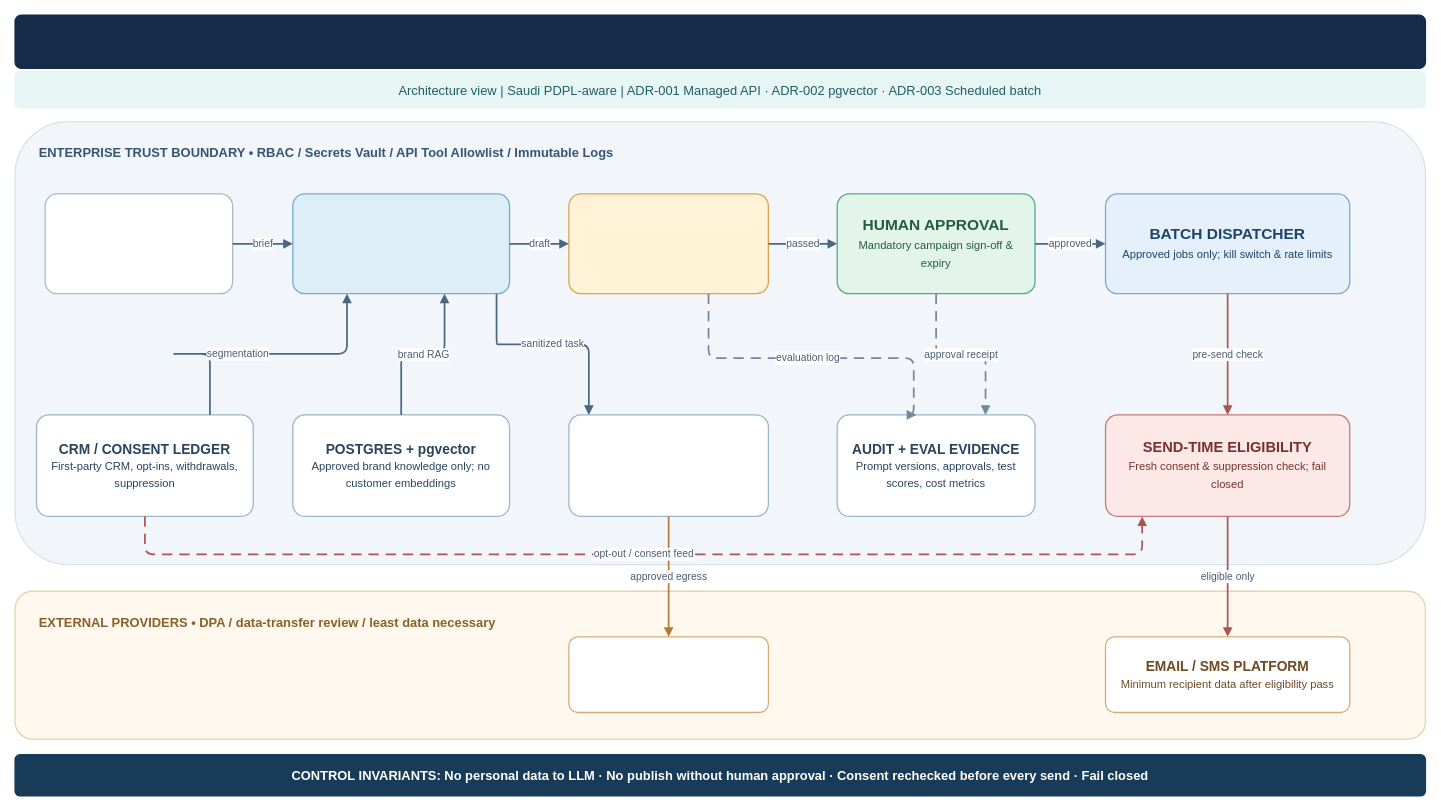
The diagram is 1441 pixels wide and 812 high, and some of its shapes have lost their labels. Each missing label, with the centre of its shape:
APPROVED LLM PROVIDER Sanitized, non-personal creative prompts only: [668,674]
CAMPAIGN OWNER Business brief & approved audience intent: [138,243]
GOVERNED MARKETING AUTOMATION WITH AI & AGENTS: [720,41]
LLM EGRESS GATEWAY PII redaction, prompt policy, vendor allowlist: [668,465]
PLANNER & COPY AGENTS Draft creative, propose segments; allowlisted tools: [401,243]
POLICY + EVAL GATE Brand, claims, PII, injection & budget checks: [668,243]
